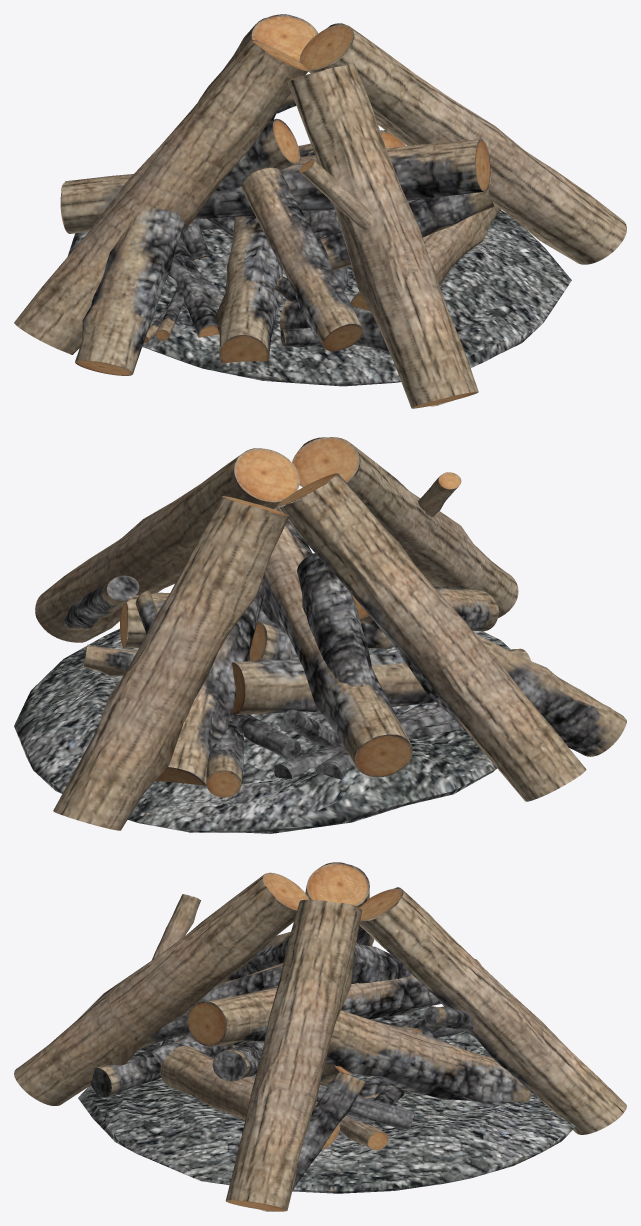
File: CfWood.fbx
3 renders of one model, top to bottom at view 1: azimuth 30°, elevation 25°; view 2: azimuth 150°, elevation 25°; view 3: azimuth 270°, elevation 25°, orthographic. The views are drawn at different scales.
Parts seen in each view (by area): view 1: CampFireWood; view 2: CampFireWood; view 3: CampFireWood.
Part boxes in pixels (x1=…): CampFireWood: x1=14, y1=14, x2=626, y2=408; CampFireWood: x1=14, y1=437, x2=626, y2=833; CampFireWood: x1=14, y1=862, x2=626, y2=1211.
Bounding box in the file's own units: 149 × 69.52 × 158.
Materials: 1 (1 with a texture image).
